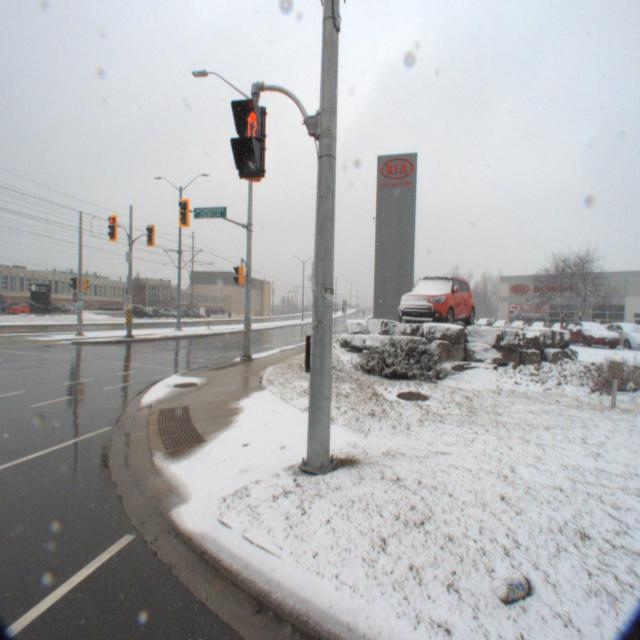Car: (387, 267, 477, 331), (551, 318, 619, 349), (486, 317, 508, 331)
